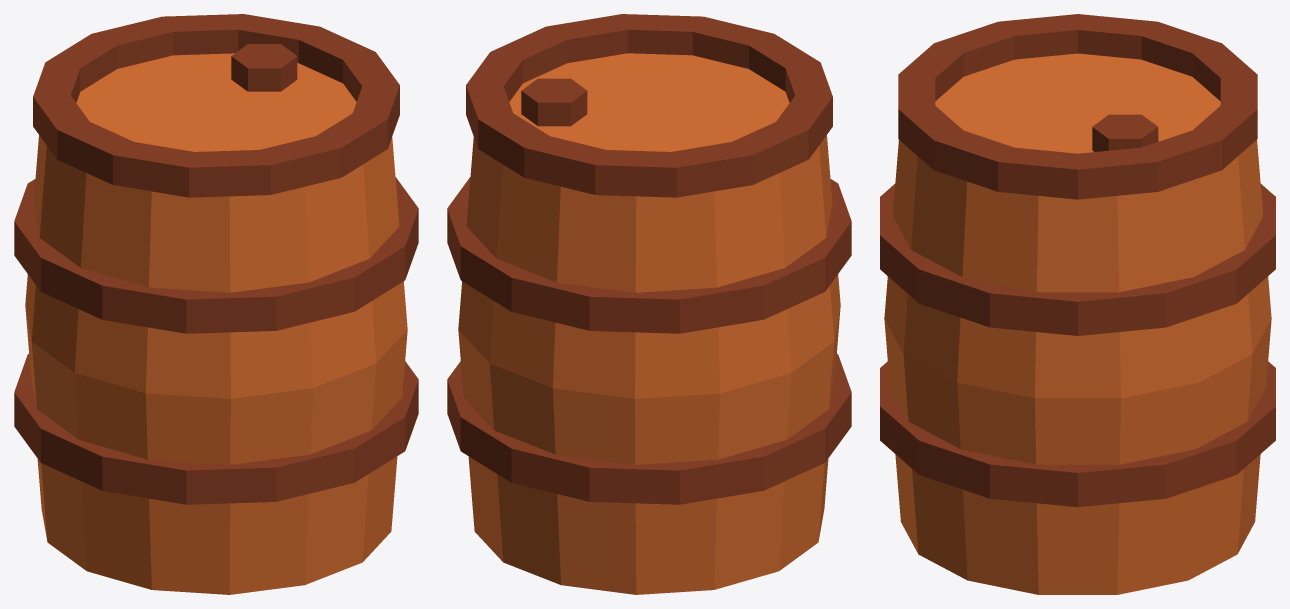
Rendered from item_barrel_rusty.fbx.
The picture shows the model from 3 angles, left to right: view 1: azimuth 30°, elevation 25°; view 2: azimuth 150°, elevation 25°; view 3: azimuth 270°, elevation 25°; orthographic projection.
Visible parts, largest first — view 1: item_barrel_rusty; view 2: item_barrel_rusty; view 3: item_barrel_rusty.
Part boxes in pixels (left/top/right/bottom): item_barrel_rusty: left=14, top=14, right=418, bottom=594; item_barrel_rusty: left=447, top=14, right=851, bottom=594; item_barrel_rusty: left=880, top=14, right=1275, bottom=594.
Size of the model in its own units: 1.72 by 2.01 by 1.68.
